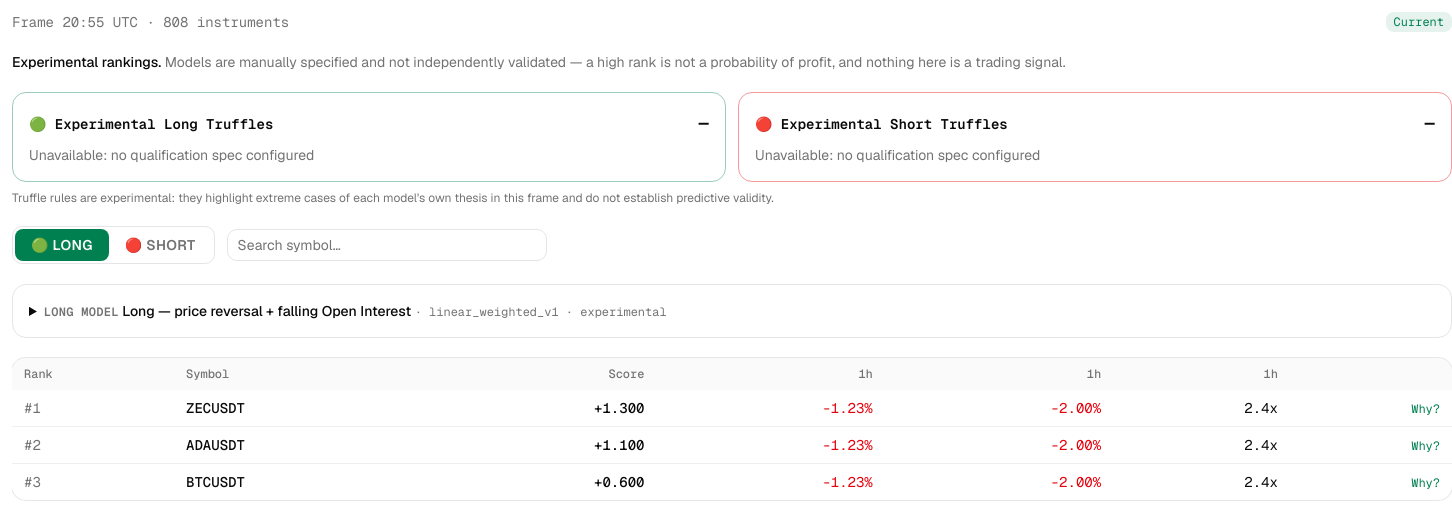
RankingBoard › filters by symbol without re-ranking
Type "btc" into the field labelled "Search symbol". click: (387, 245)
box: [227, 229, 547, 261]
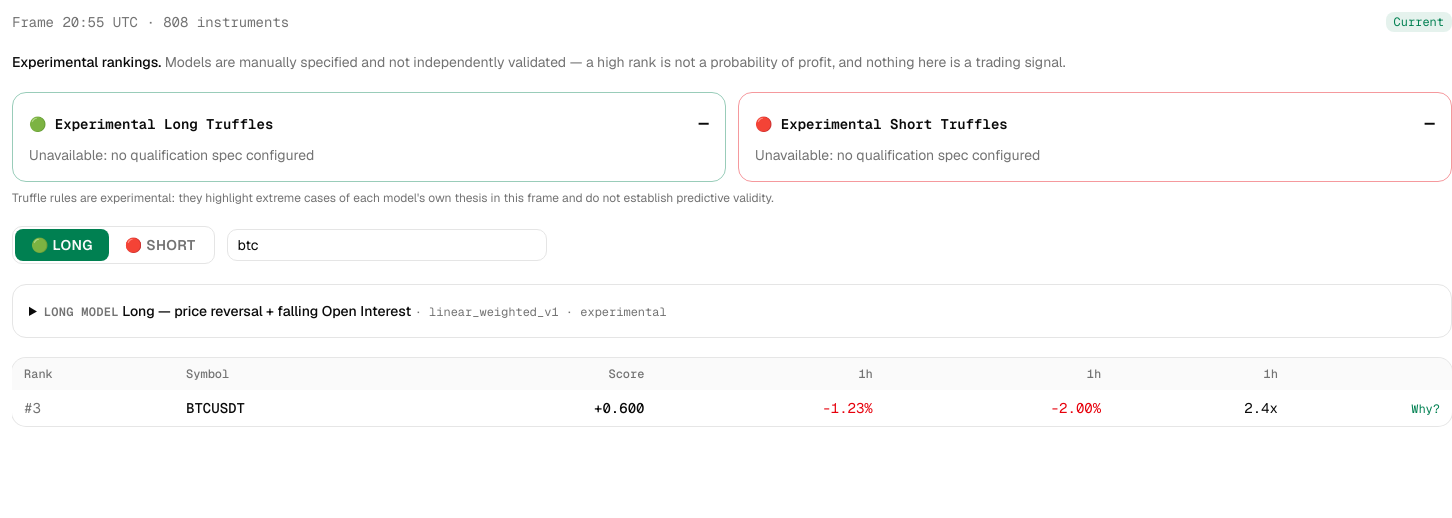
Expected: the text "#3" is shown, [12, 390, 174, 426]
Replace the text in the field named "Search symbol" with "nope". click: (387, 245)
box: [227, 229, 547, 261]
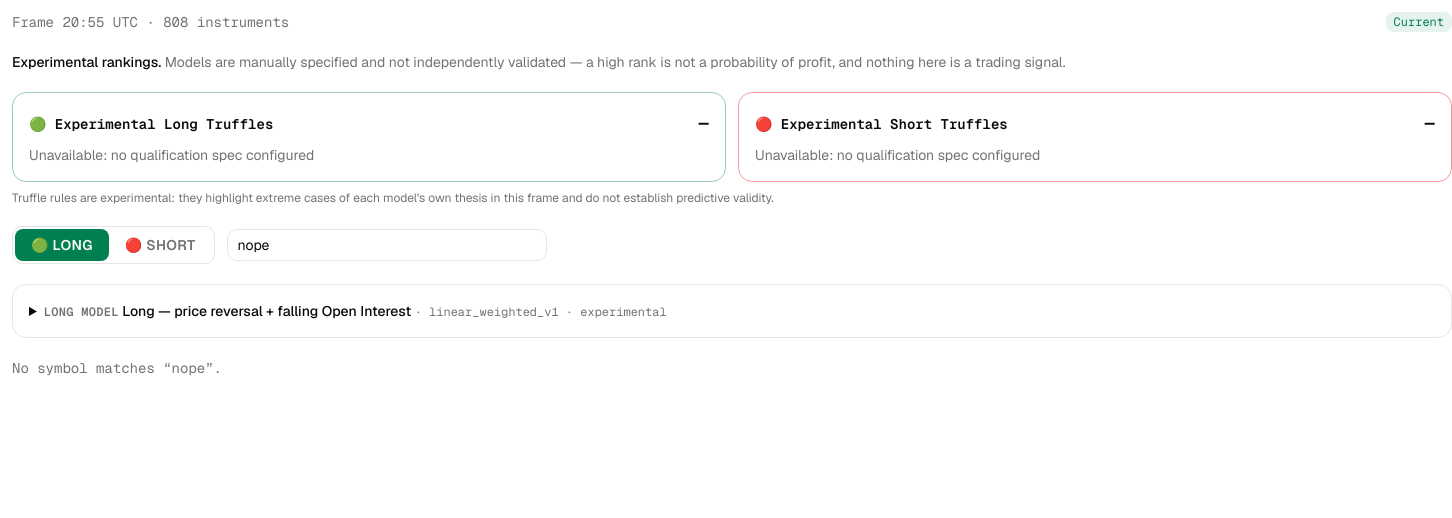
Expected: the text "No symbol matches “nope”." is shown, [12, 359, 222, 377]
